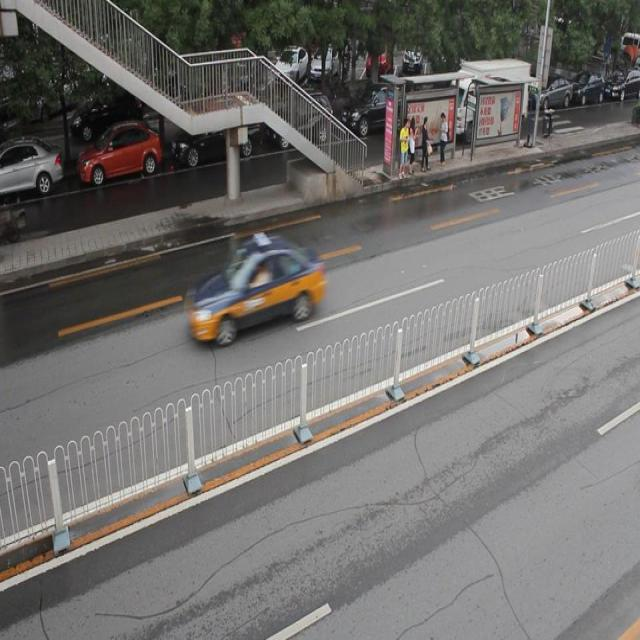bus: (445, 56, 531, 136)
car: (190, 236, 323, 340), (172, 107, 261, 168), (79, 120, 160, 184), (268, 89, 334, 149), (1, 138, 64, 200), (341, 82, 403, 137)
